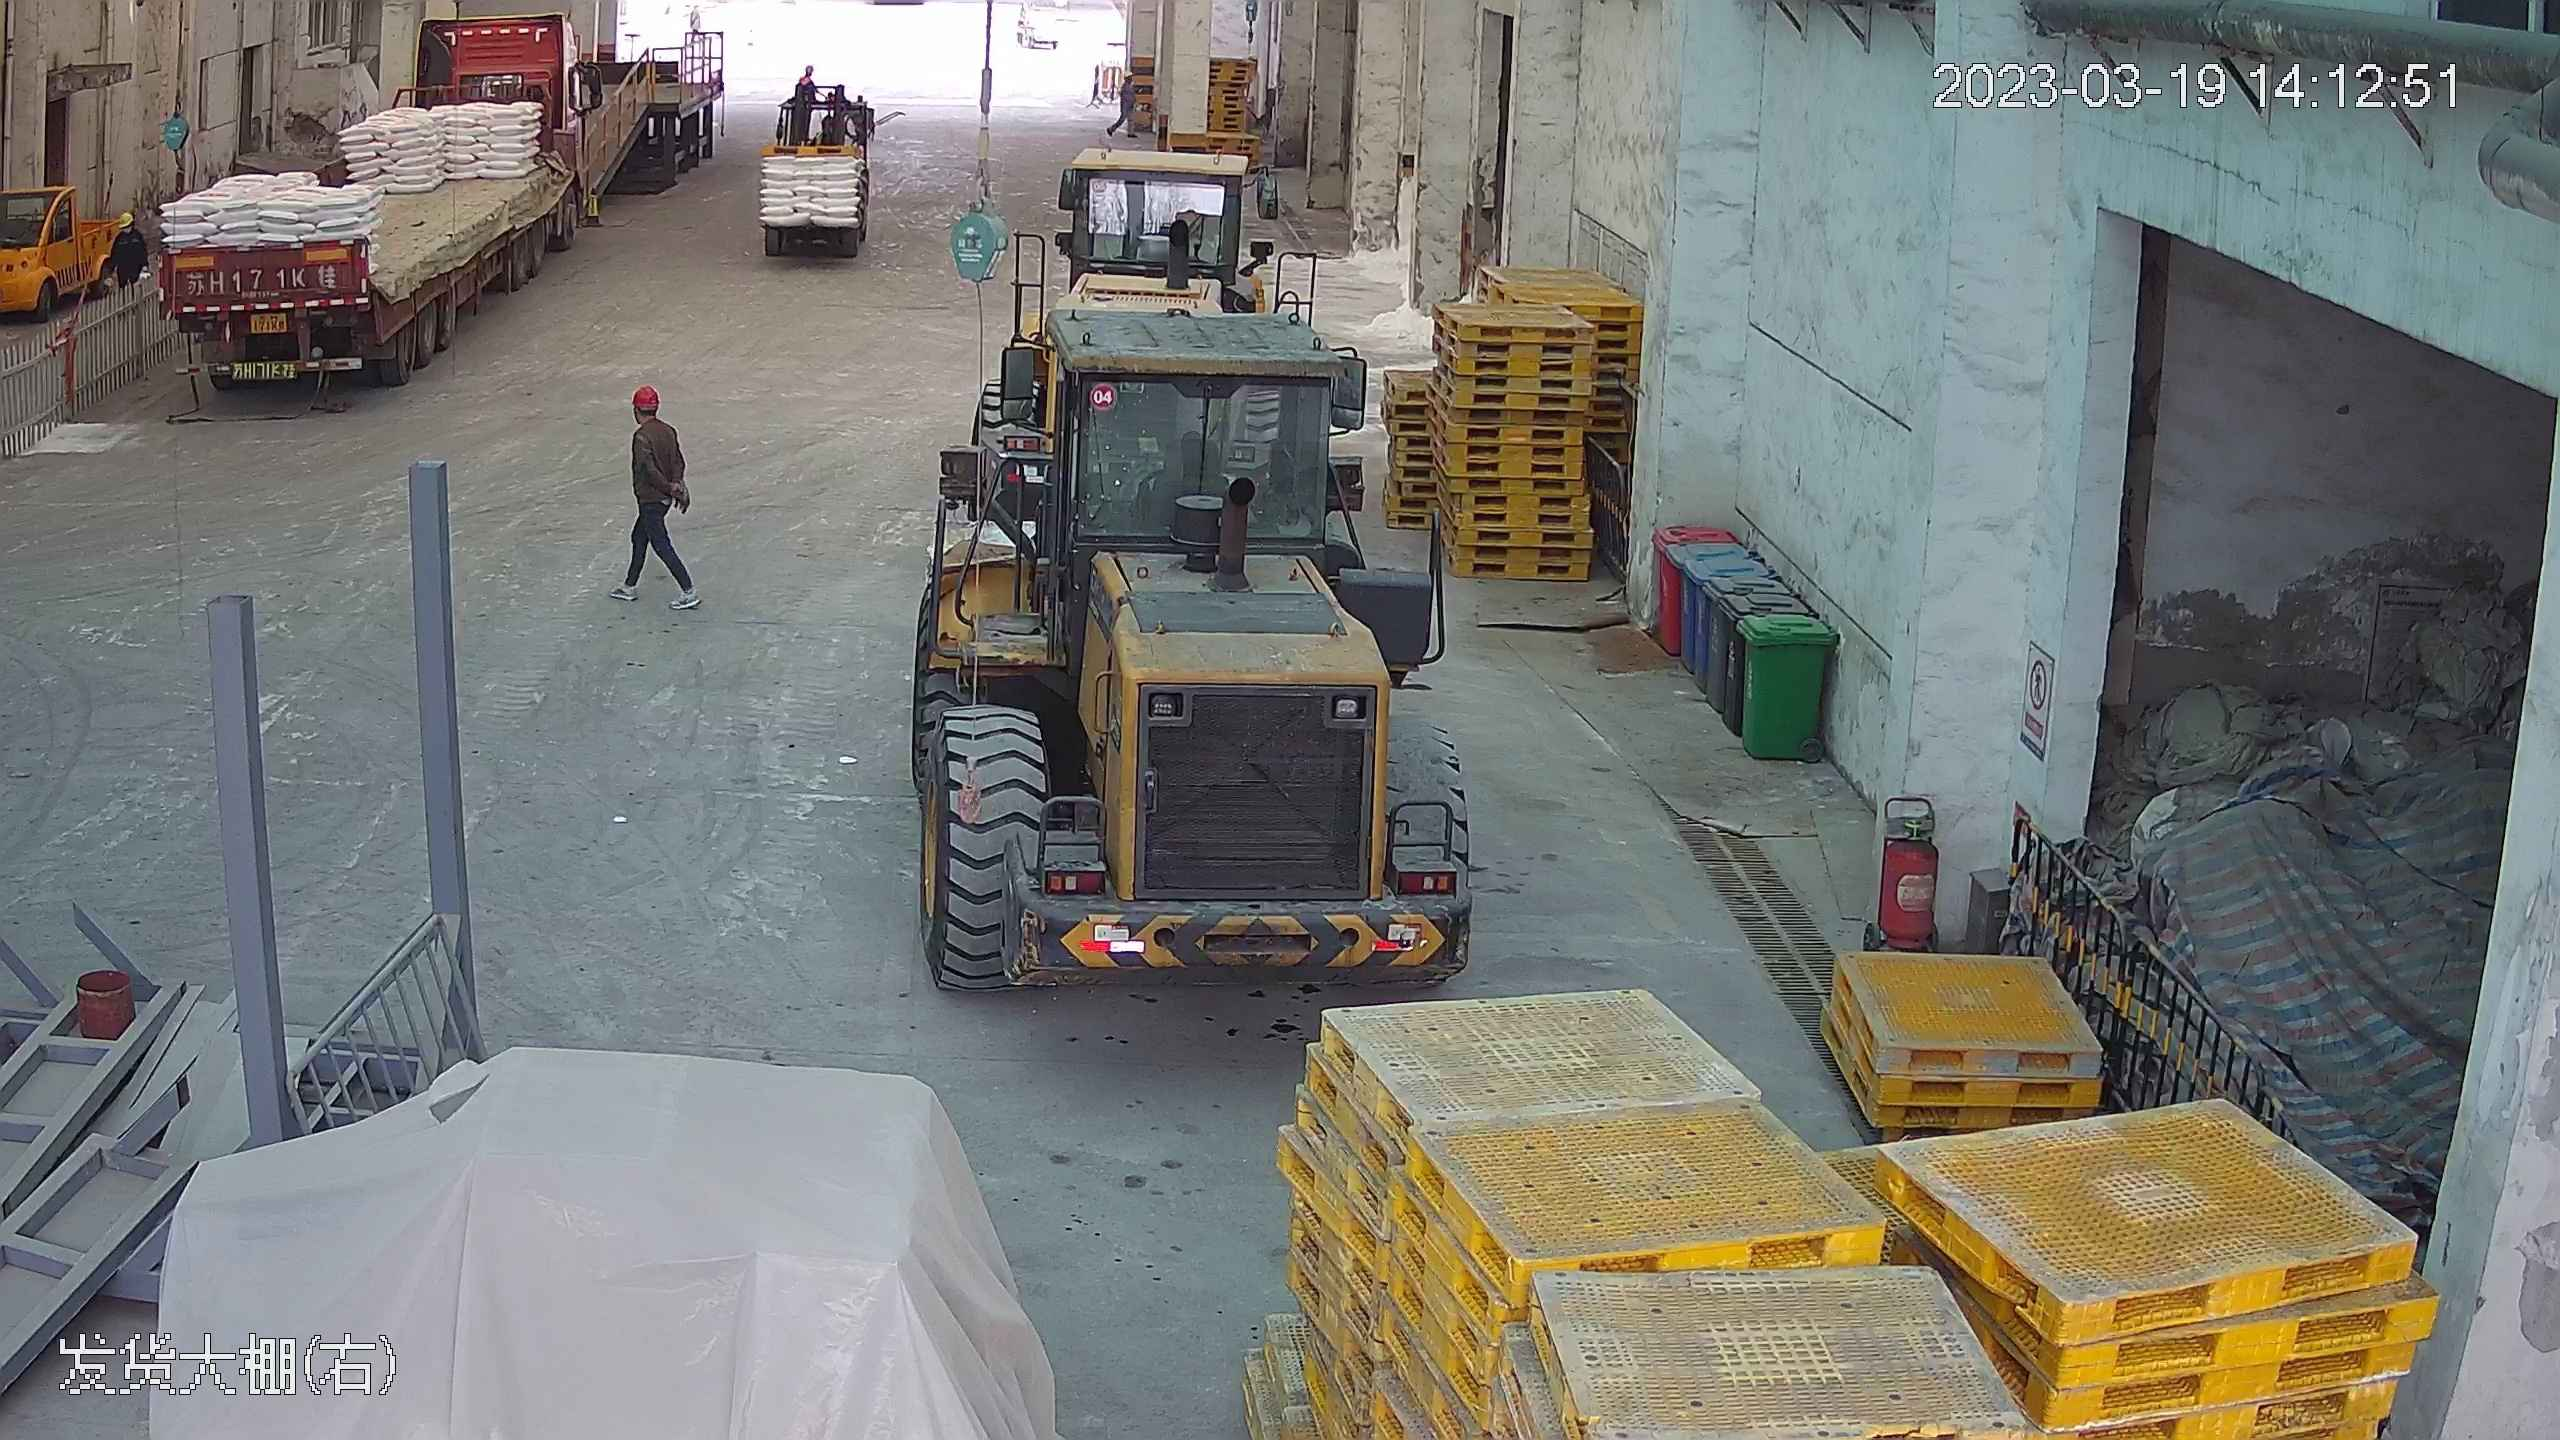head: (625, 379, 682, 454), (112, 207, 148, 252)
helmet: (628, 379, 662, 405), (117, 211, 135, 229)
people: (614, 371, 704, 604), (106, 207, 149, 296)
truck: (144, 12, 599, 394)
